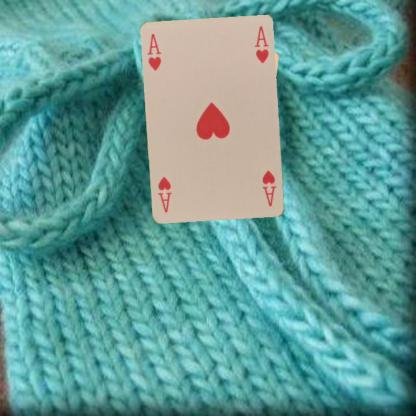Ah: (259, 168, 278, 208), (145, 31, 163, 72)
